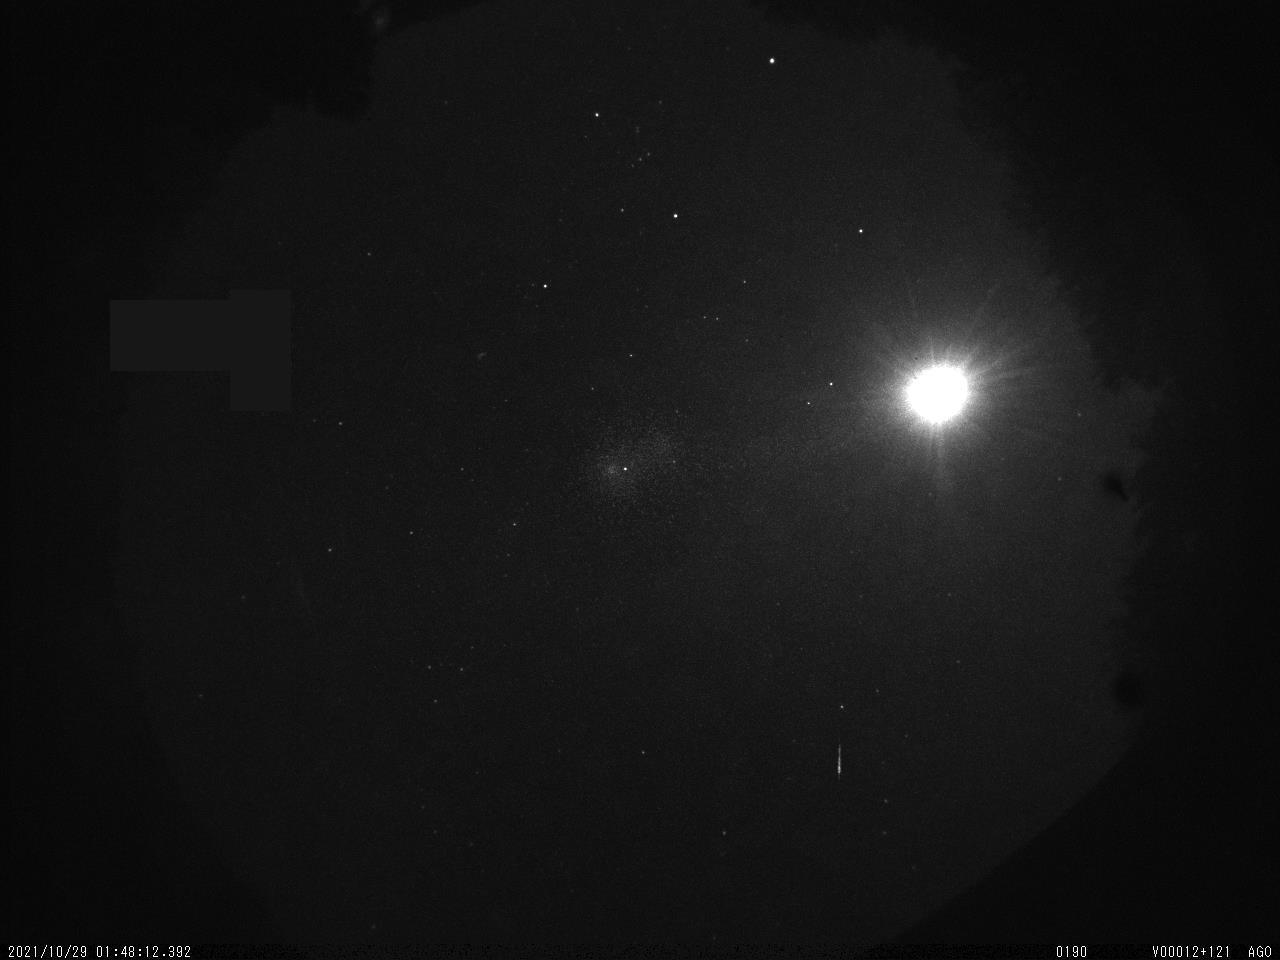meteor: (830, 737, 846, 783)
